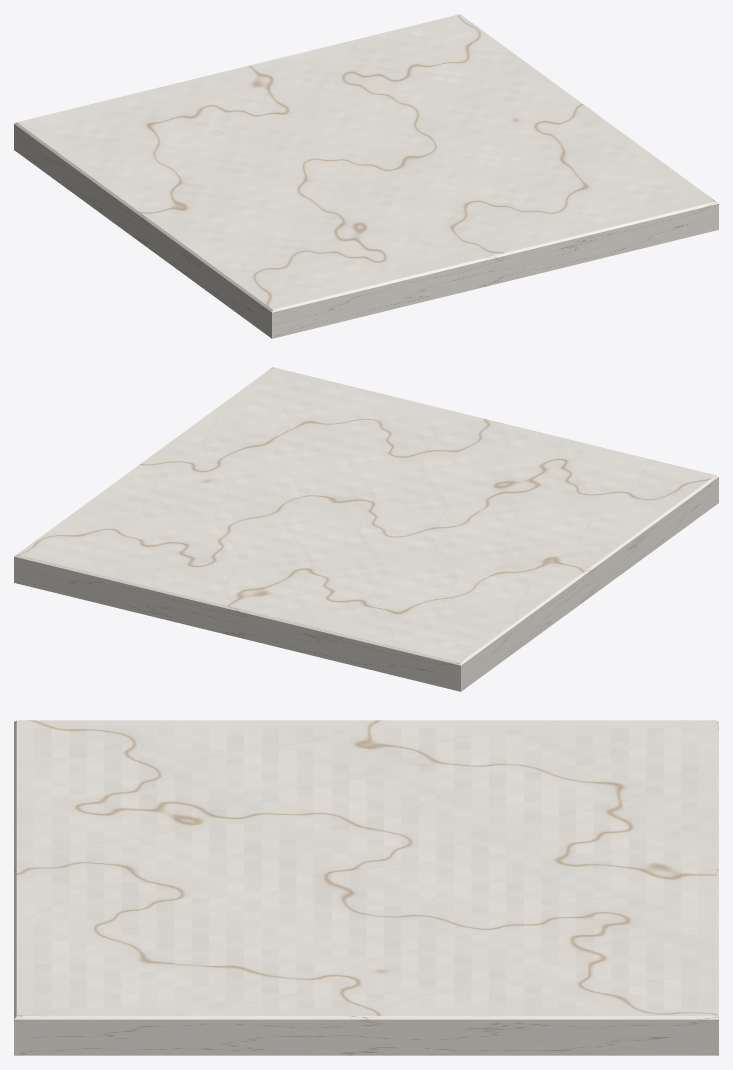
Rendered from f01-i-cream-marble-fine-textured-wet.glb.
3 renders of one model, top to bottom at view 1: azimuth 30°, elevation 25°; view 2: azimuth 150°, elevation 25°; view 3: azimuth 270°, elevation 25°, orthographic. The views are drawn at different scales.
Parts seen in each view (by area): view 1: S7-FLOOR-F01-I individual 1m square stone slab; view 2: S7-FLOOR-F01-I individual 1m square stone slab; view 3: S7-FLOOR-F01-I individual 1m square stone slab.
Part boxes in pixels (<box>): S7-FLOOR-F01-I individual 1m square stone slab: <box>14,14,718,338</box>; S7-FLOOR-F01-I individual 1m square stone slab: <box>14,367,718,691</box>; S7-FLOOR-F01-I individual 1m square stone slab: <box>14,720,718,1055</box>.
Size of the model in its own units: 1 by 0.06 by 1.
Materials: 1 (1 with a texture image).
